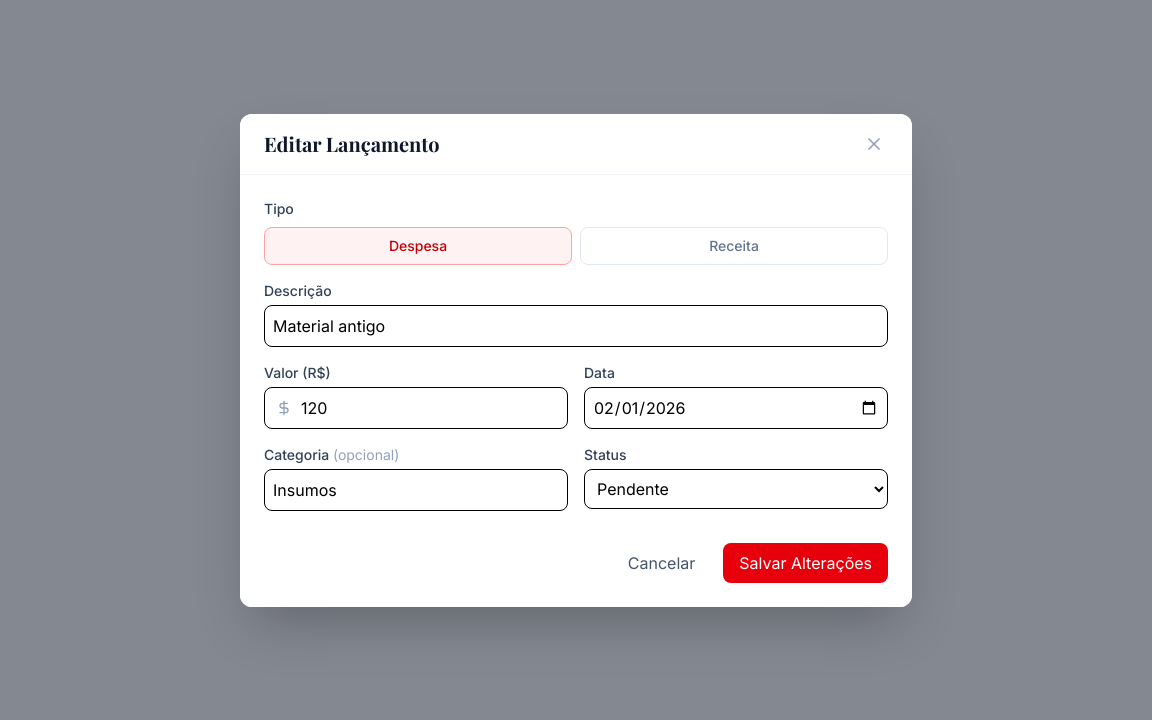
NewExpenseModal — edição › exibe o erro retornado pelo backend e não fecha o modal
What coordinates should you click on to do the following:
click the button "Salvar Alterações"
I would click on:
 (806, 562)
Its box is left=723, top=542, right=888, bottom=582.
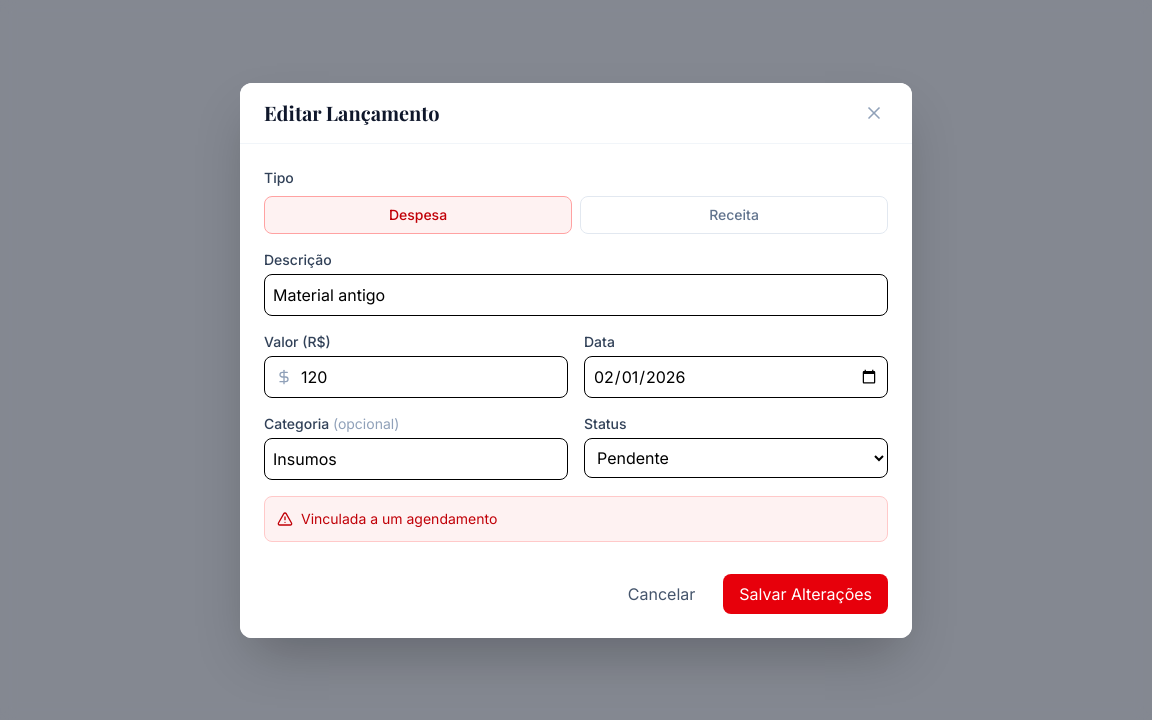
Check: the text "Vinculada a um agendamento" is shown, box left=264, top=496, right=888, bottom=542
